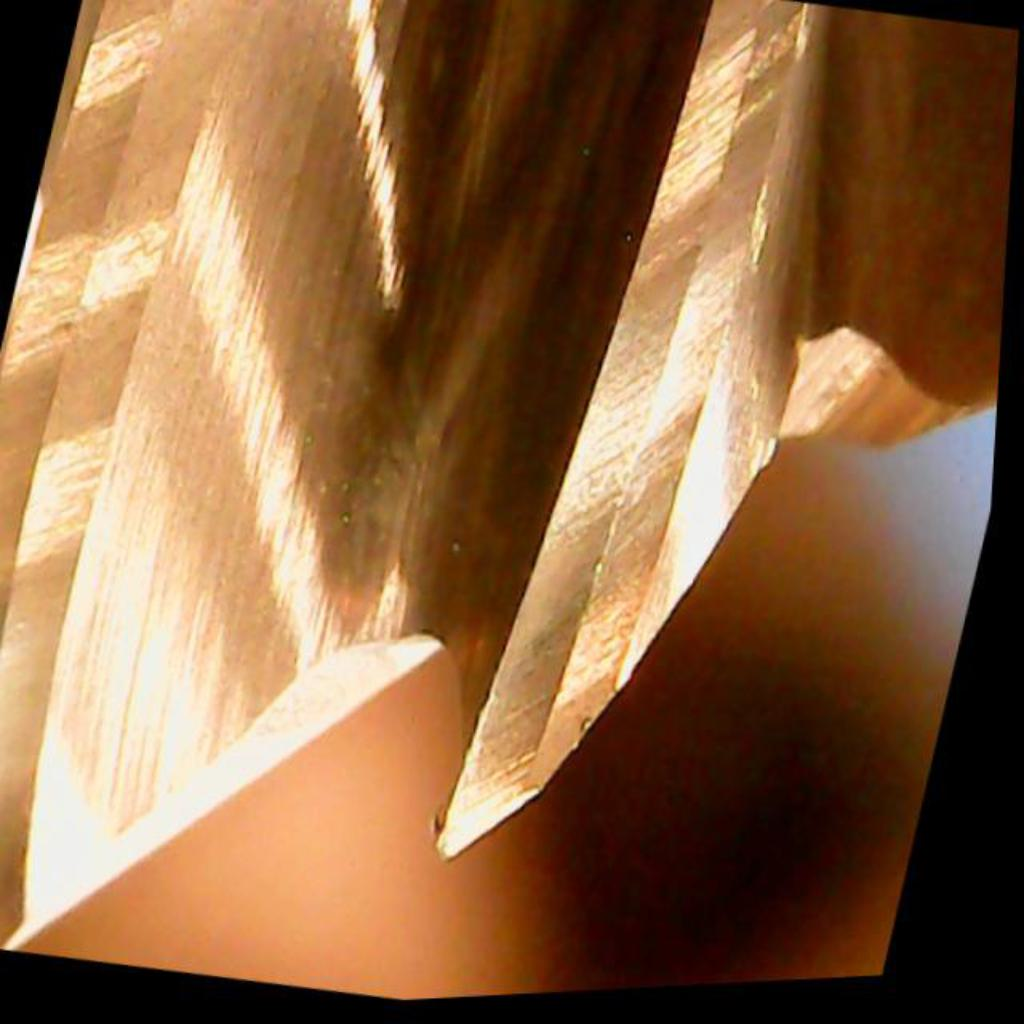Tool-wear-class-0: (392, 289, 797, 919)
